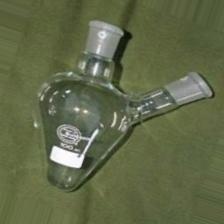Pear shaped flask: (36, 20, 213, 189)
